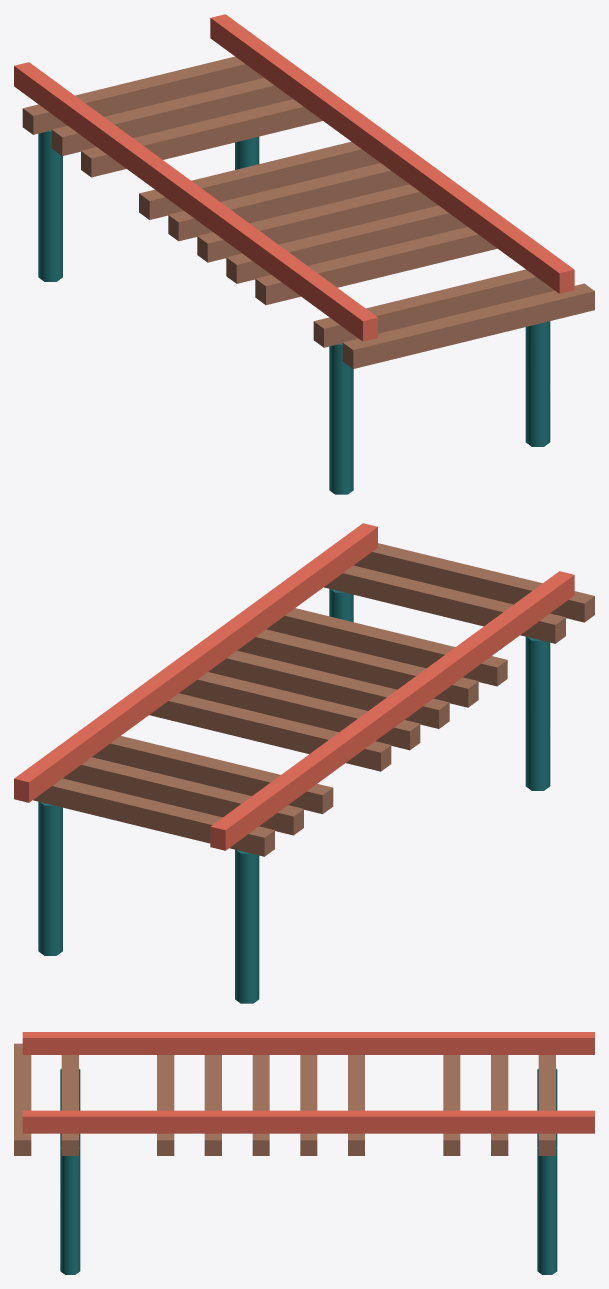
File: track_piece.glb
3 renders of one model, top to bottom at view 1: azimuth 30°, elevation 25°; view 2: azimuth 150°, elevation 25°; view 3: azimuth 270°, elevation 25°, orthographic. The views are drawn at different scales.
Visible parts, largest first — view 1: track_piece; view 2: track_piece; view 3: track_piece.
Boxes of the visible parts, <box> form: track_piece: <box>14,14,594,494</box>; track_piece: <box>14,523,594,1003</box>; track_piece: <box>14,1032,594,1274</box>.
Bounding box in the file's own units: 1.6 × 1.22 × 4.06.
